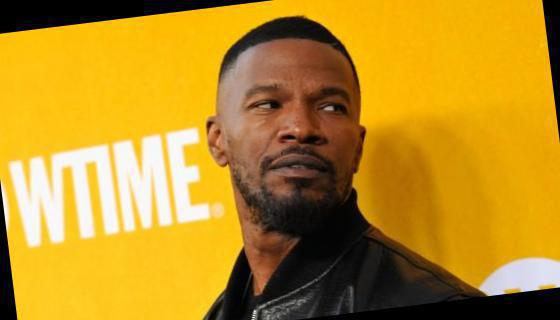Sober: (229, 49, 359, 213)
